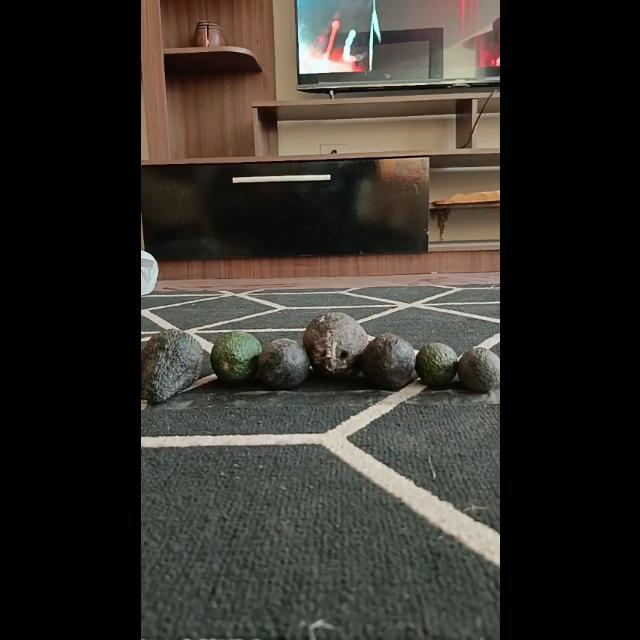Primera: (140, 328, 204, 404), (302, 312, 368, 376)
Segunda: (358, 334, 416, 388), (211, 332, 263, 384), (256, 338, 310, 388)
Tercera: (413, 343, 457, 387), (457, 347, 499, 393)
